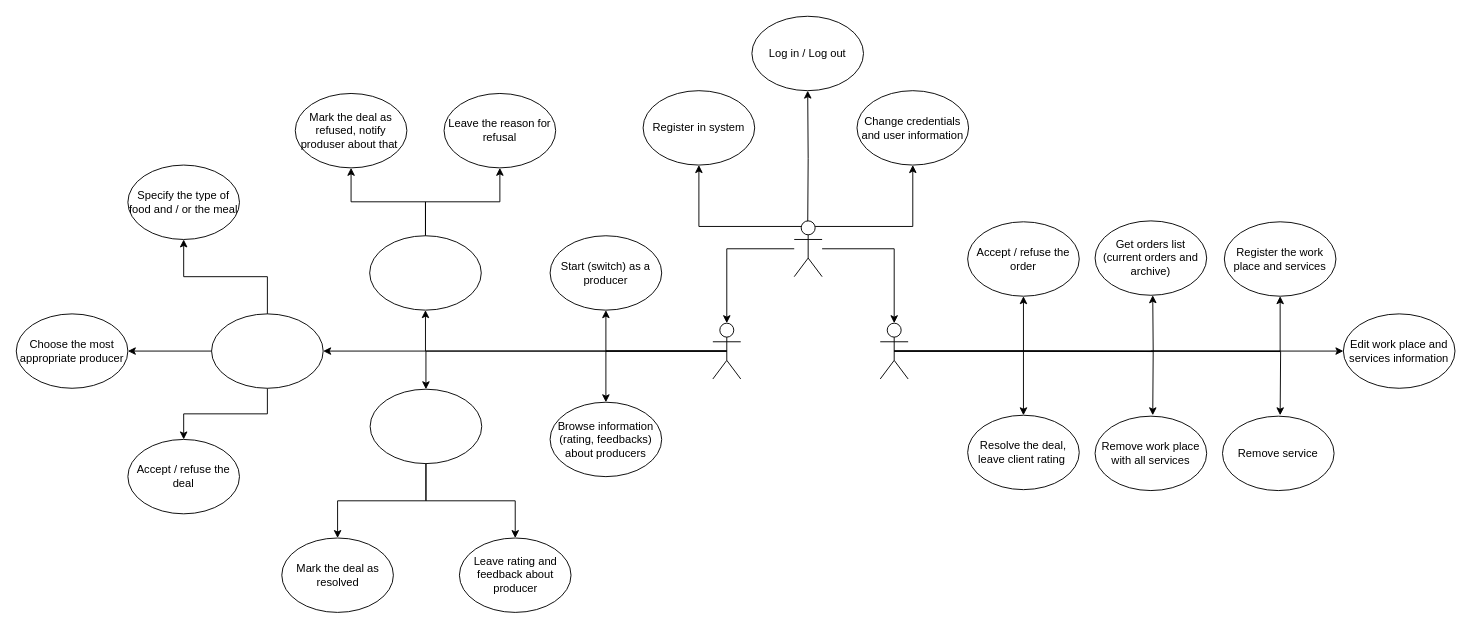
Image size: 1471x629. Some labels were removed from this diagram. Here are the shapes that lost their labels. From the top down, the centre of each, then its label:
point 807,248: User
point 425,272: Finish (refuse) the deal
point 267,350: Create order
point 726,350: Client
point 893,350: Producer
point 425,426: Finish (resolve) the deal
